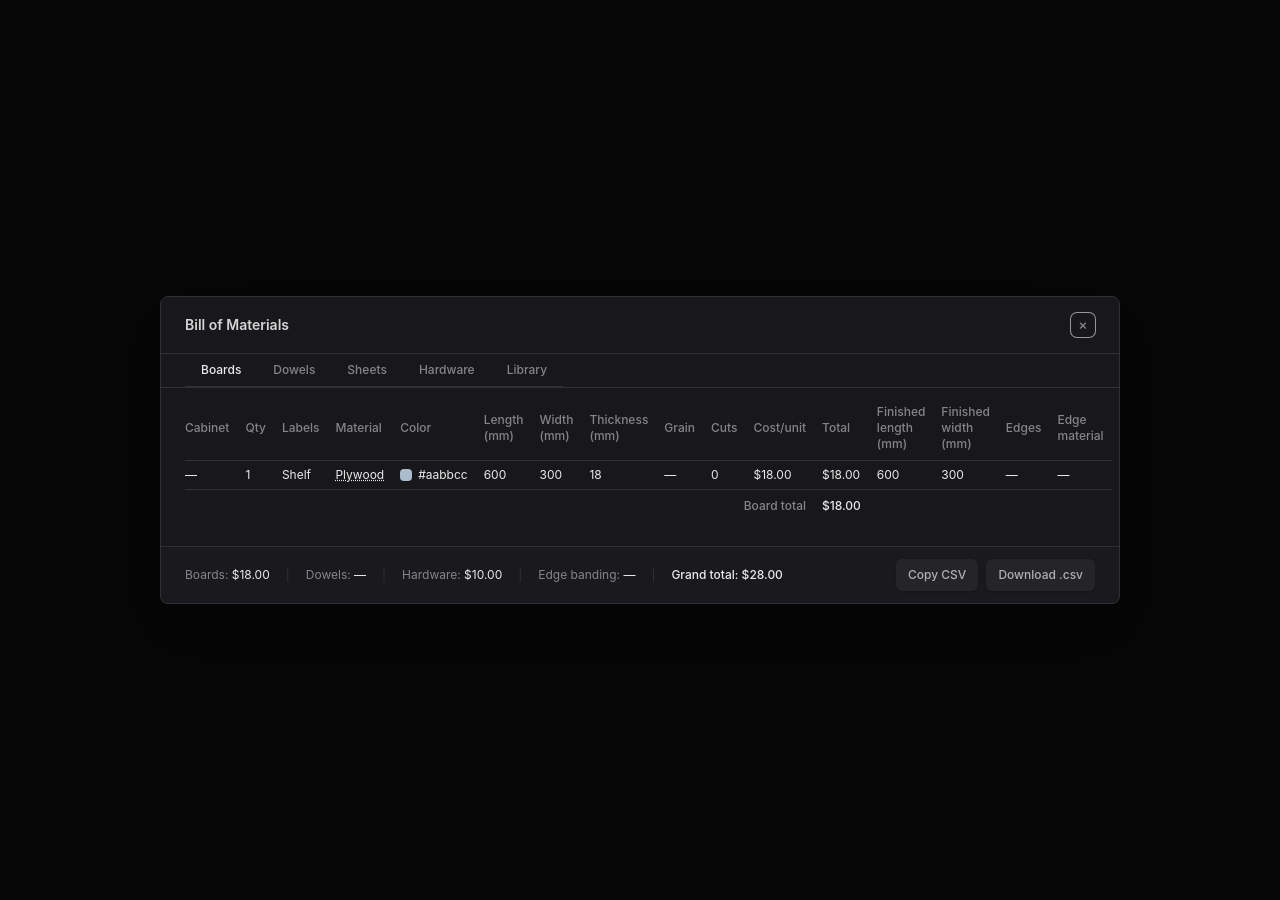
Scenario: BomModal › switches to Hardware tab on click
Click the tab "Hardware" at (447, 371), box [403, 354, 491, 388]
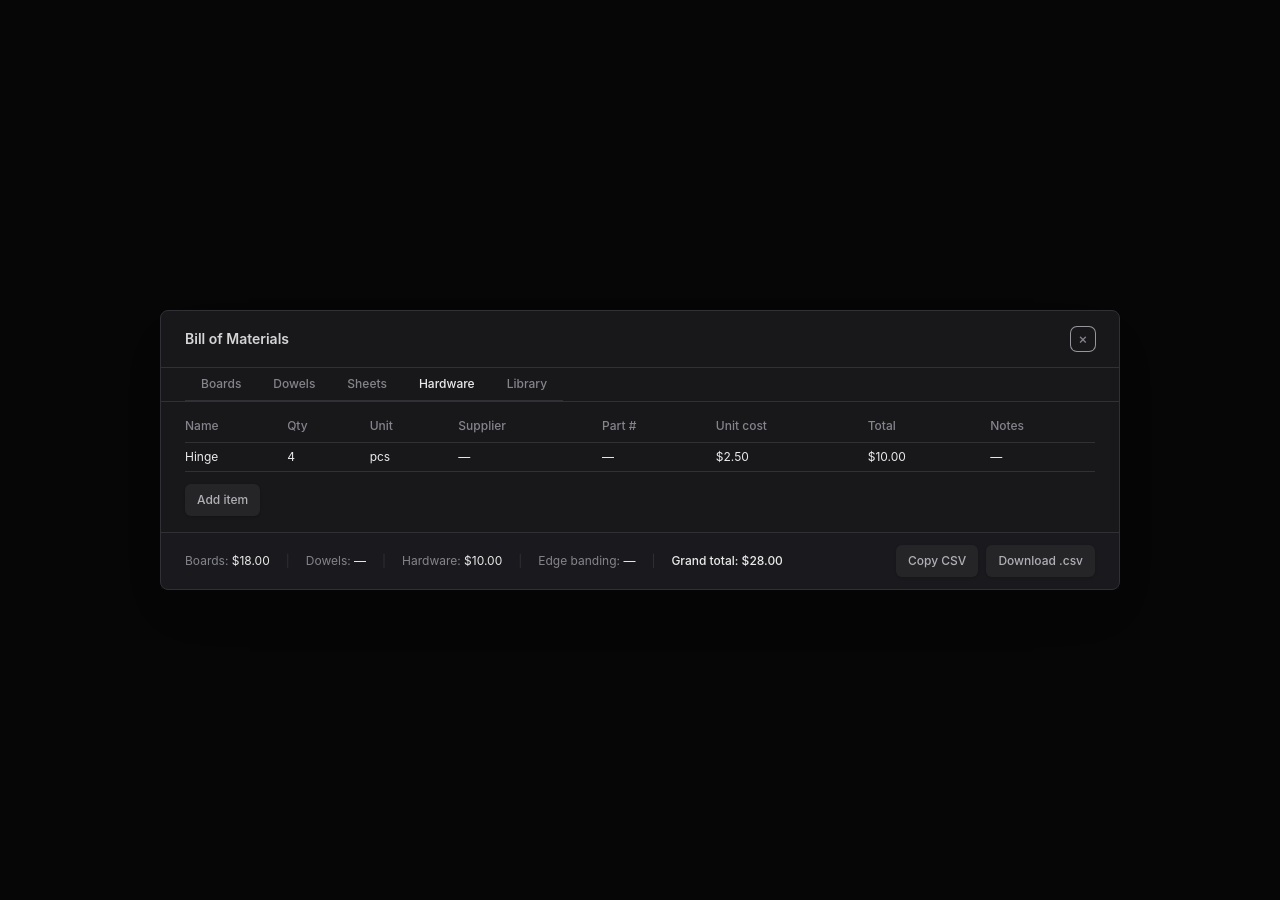
Expected: the button "Add item" is shown, [185, 484, 260, 516]
